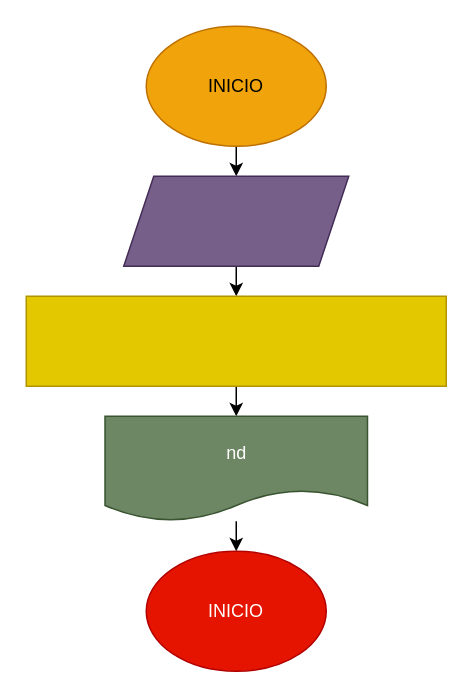
Image size: 473x698. Some labels were removed from this diagram. The shapes that lost their labels are listed below. From the top down, each one's centre as x and y in pixels, then its label:
point (235, 220): nc,cp,na,au,bi
point (235, 340): nd: 0.3*nc + 0.3*np + 0.1*na + 0.1*au + 0.2*bi
